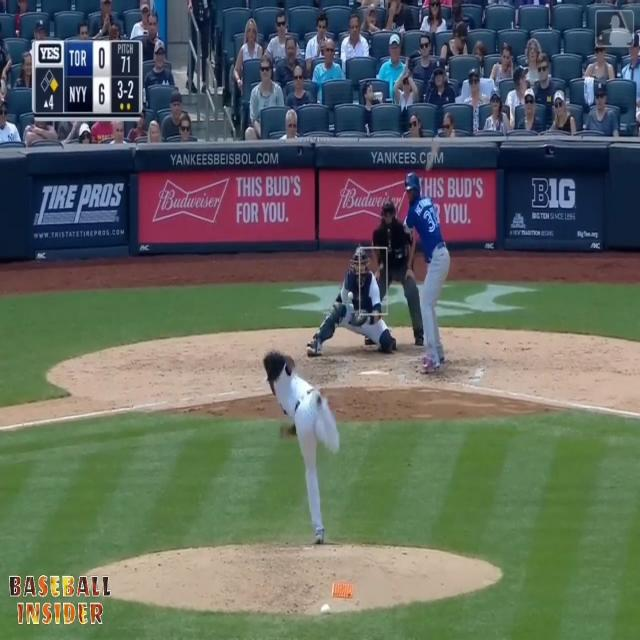baseball: (348, 291, 353, 301)
